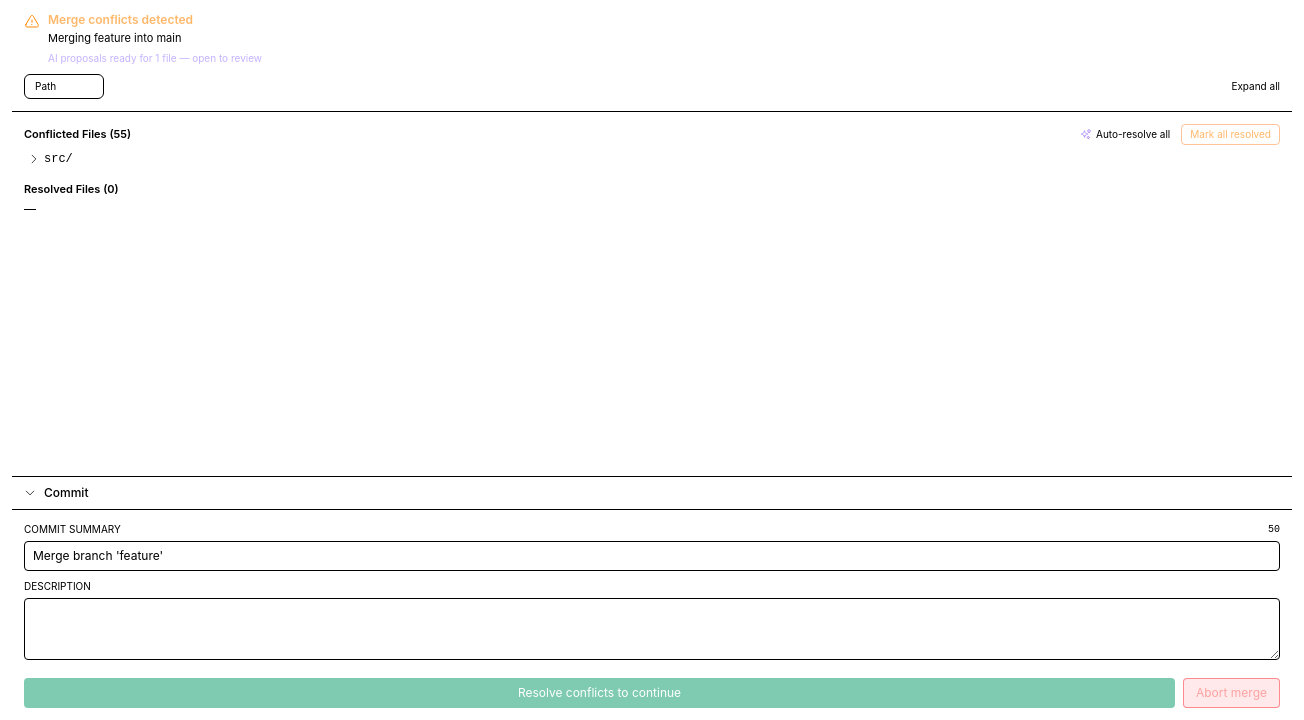
Test case: MergeConflictsPanel › virtualizes conflict files in path view when the list is large
Click the button "Path" at point(46, 86), box [27,76,64,96]
(page scrolled)
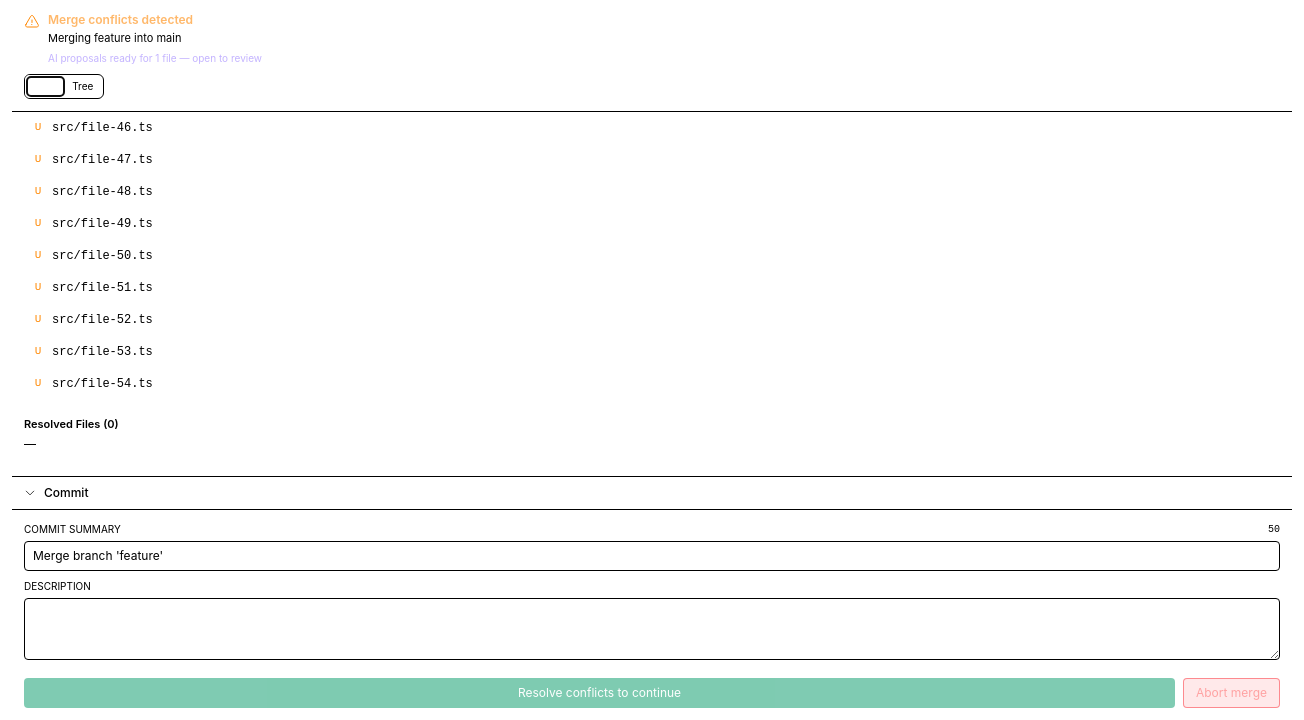
Expected: the text "src/file-54.ts" is shown, [52,376,153,390]
